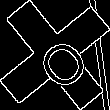O_NW: (22, 21, 88, 89)
